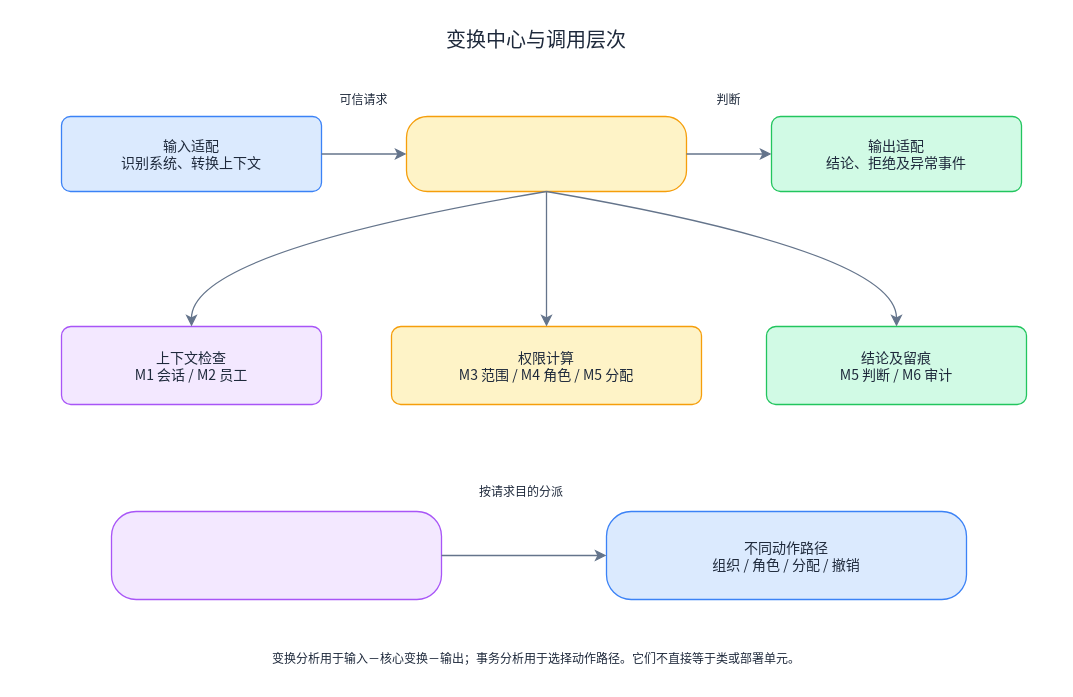
This 1073x697 diagram has some shape labels left out. Here are the shapes that lost their labels. From the top down, the box of each, then its label:
(405, 115, 687, 192): 变换中心：鉴权用例 组合状态，求有效权限
(110, 510, 442, 600): 管理请求：事务中心 身份与范围校验后选择业务用例
